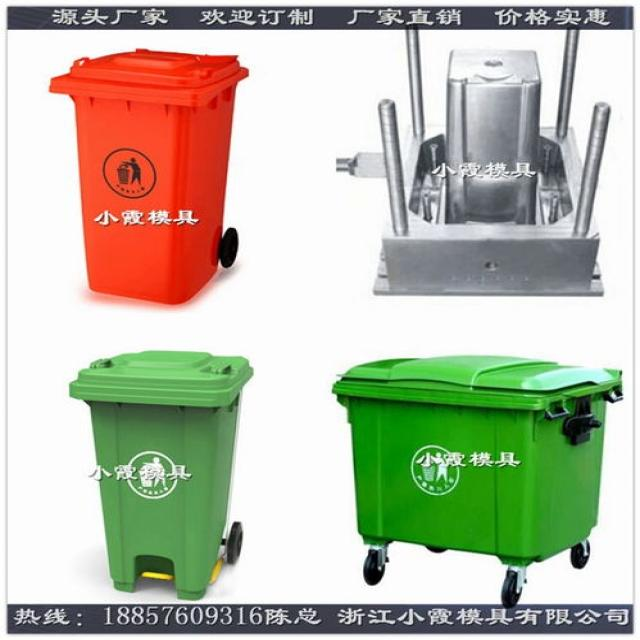garbage_bin: (330, 355, 622, 564), (48, 47, 248, 304), (67, 350, 251, 598)
